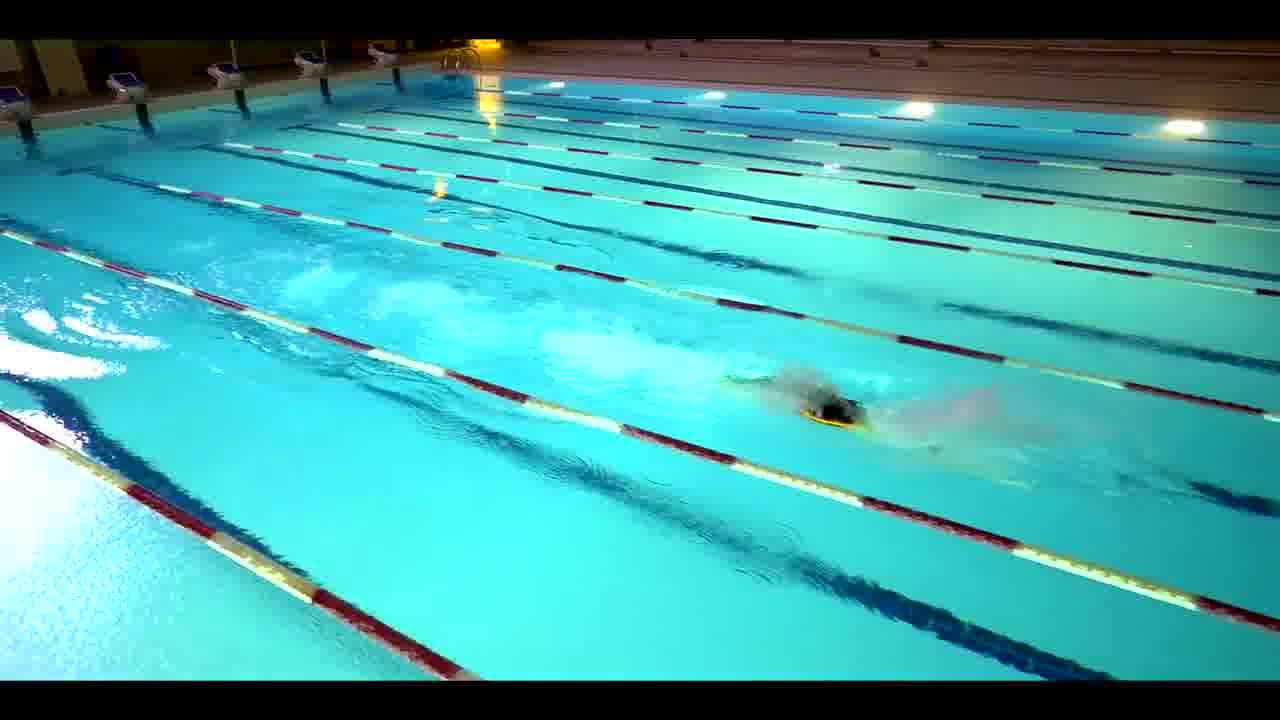human: (777, 370, 1023, 486)
